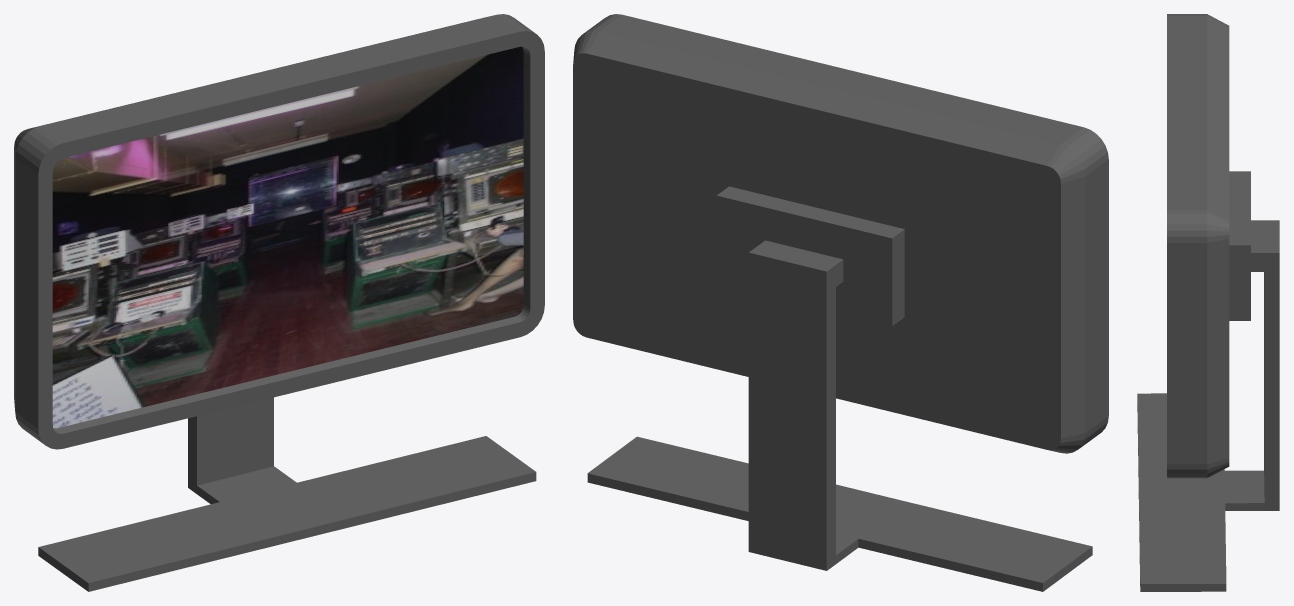
File: Computer.glb
The picture shows the model from 3 angles, left to right: view 1: azimuth 30°, elevation 25°; view 2: azimuth 150°, elevation 25°; view 3: azimuth 270°, elevation 25°; orthographic projection. The views are drawn at different scales.
Parts seen in each view (by area): view 1: background, Cube; view 2: Cube; view 3: Cube.
Part boxes in pixels (x1,y1,x2,y2): background: (52, 46, 523, 428); Cube: (14, 14, 544, 591); Cube: (573, 14, 1108, 591); Cube: (1137, 14, 1279, 591).
Size of the model in its own units: 3.47 by 2.87 by 0.9705.
Materials: 2 (1 with a texture image).
